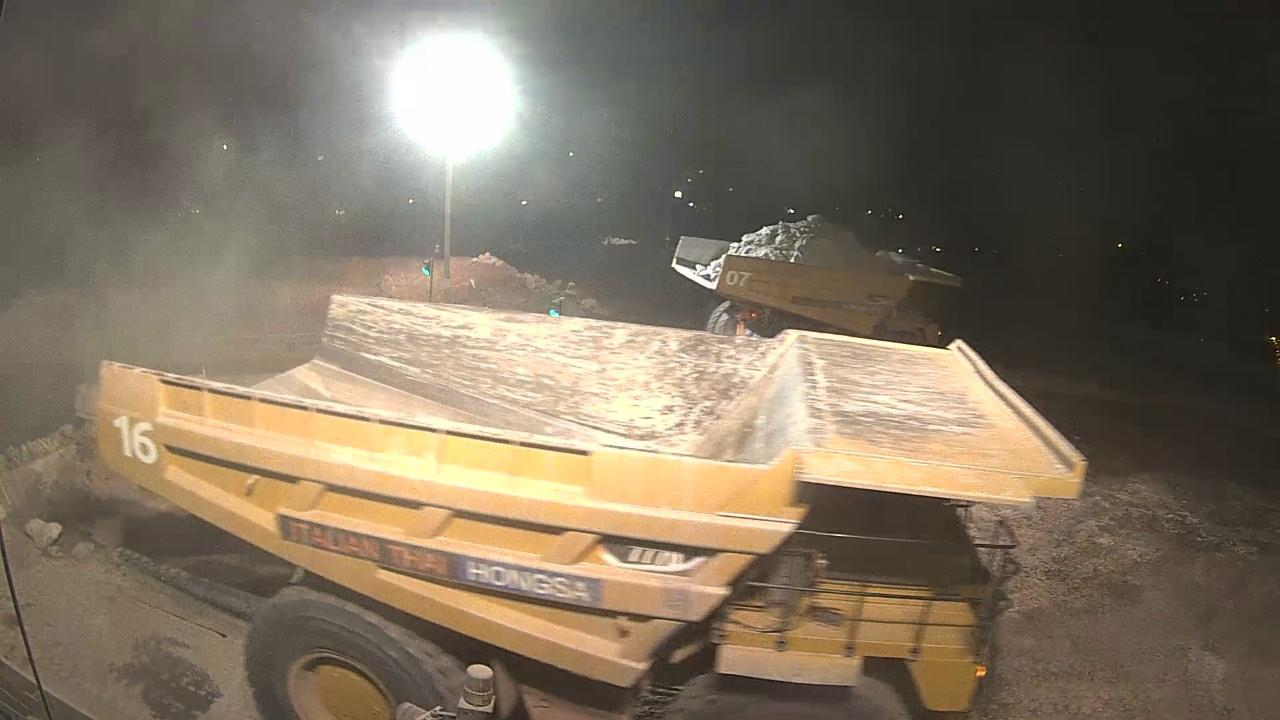company: (267, 508, 603, 606)
dust: (21, 26, 299, 372), (556, 13, 854, 201)
empty_load: (340, 317, 749, 457)
full_load: (747, 219, 901, 268)
mining_truck: (79, 236, 1088, 717), (672, 210, 970, 349)
tail_number: (113, 410, 163, 471), (718, 264, 757, 293)
truck_size: (603, 538, 712, 577)
